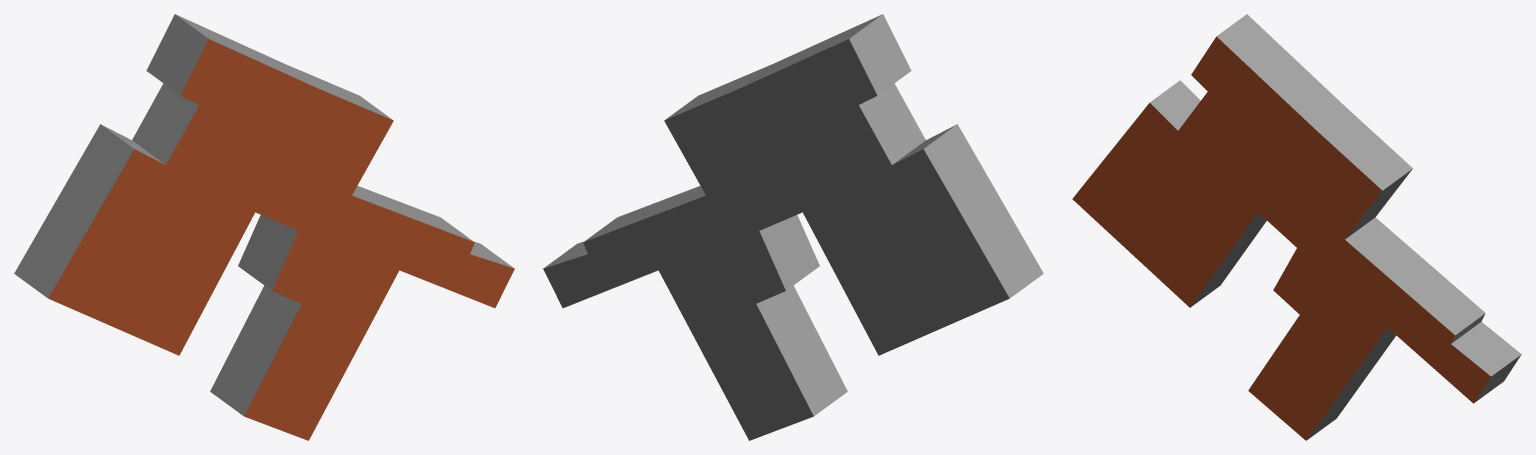
Rendered from construction_1864_assumed_A_Casa_h6m.obj.
3 renders of one model, left to right at view 1: azimuth 30°, elevation 25°; view 2: azimuth 150°, elevation 25°; view 3: azimuth 330°, elevation 25°, orthographic. The views are drawn at different scales.
Parts seen in each view (by area): view 1: construction_1864_assumed_A_Casa; view 2: construction_1864_assumed_A_Casa; view 3: construction_1864_assumed_A_Casa.
Part boxes in pixels (left/top/right/bottom): construction_1864_assumed_A_Casa: left=14, top=14, right=514, bottom=440; construction_1864_assumed_A_Casa: left=543, top=14, right=1043, bottom=440; construction_1864_assumed_A_Casa: left=1072, top=14, right=1521, bottom=440.
Size of the model in its own units: 47.49 by 41.46 by 6.
